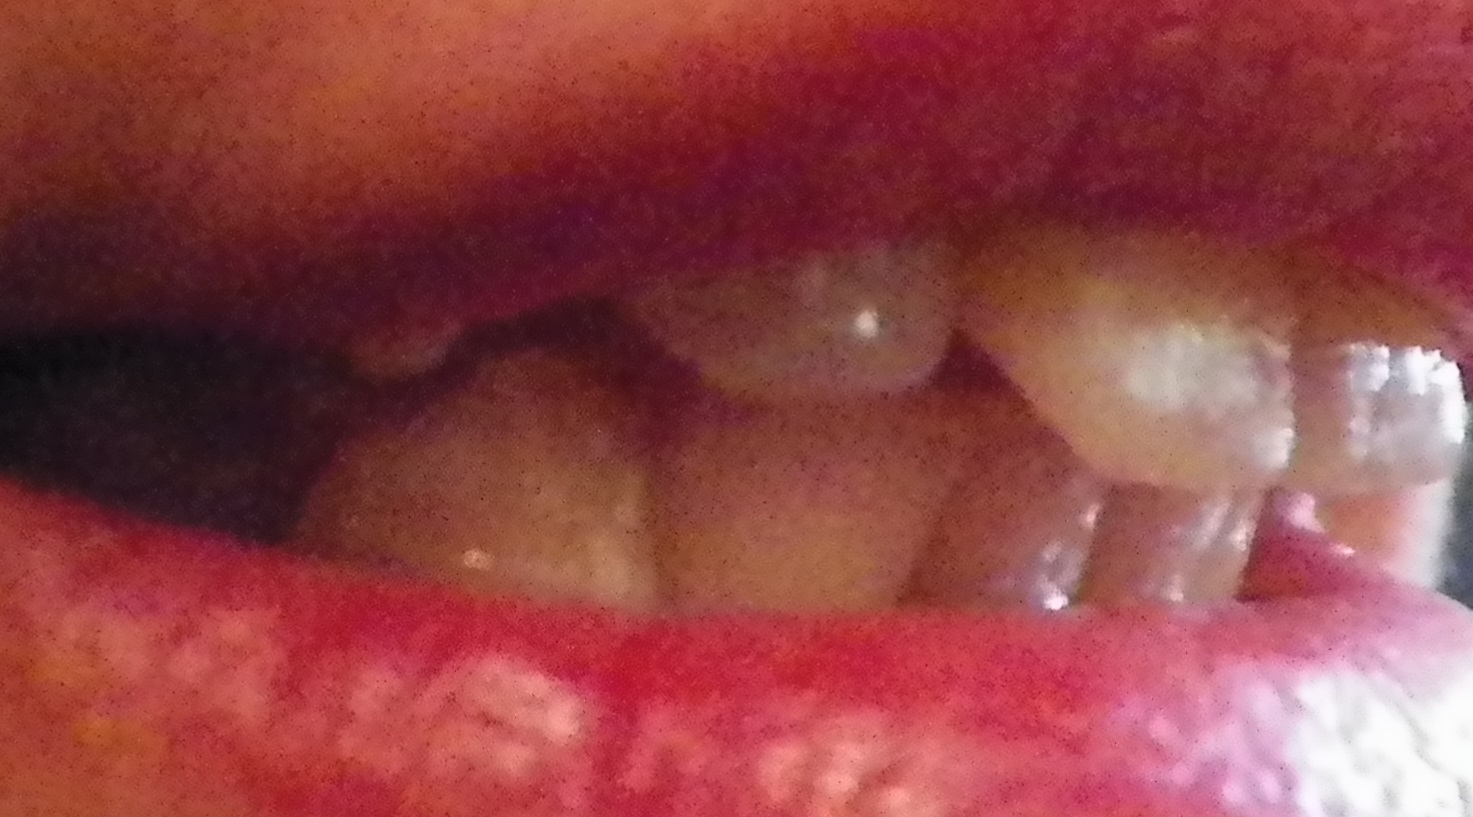boca: (90, 211, 1462, 615)
